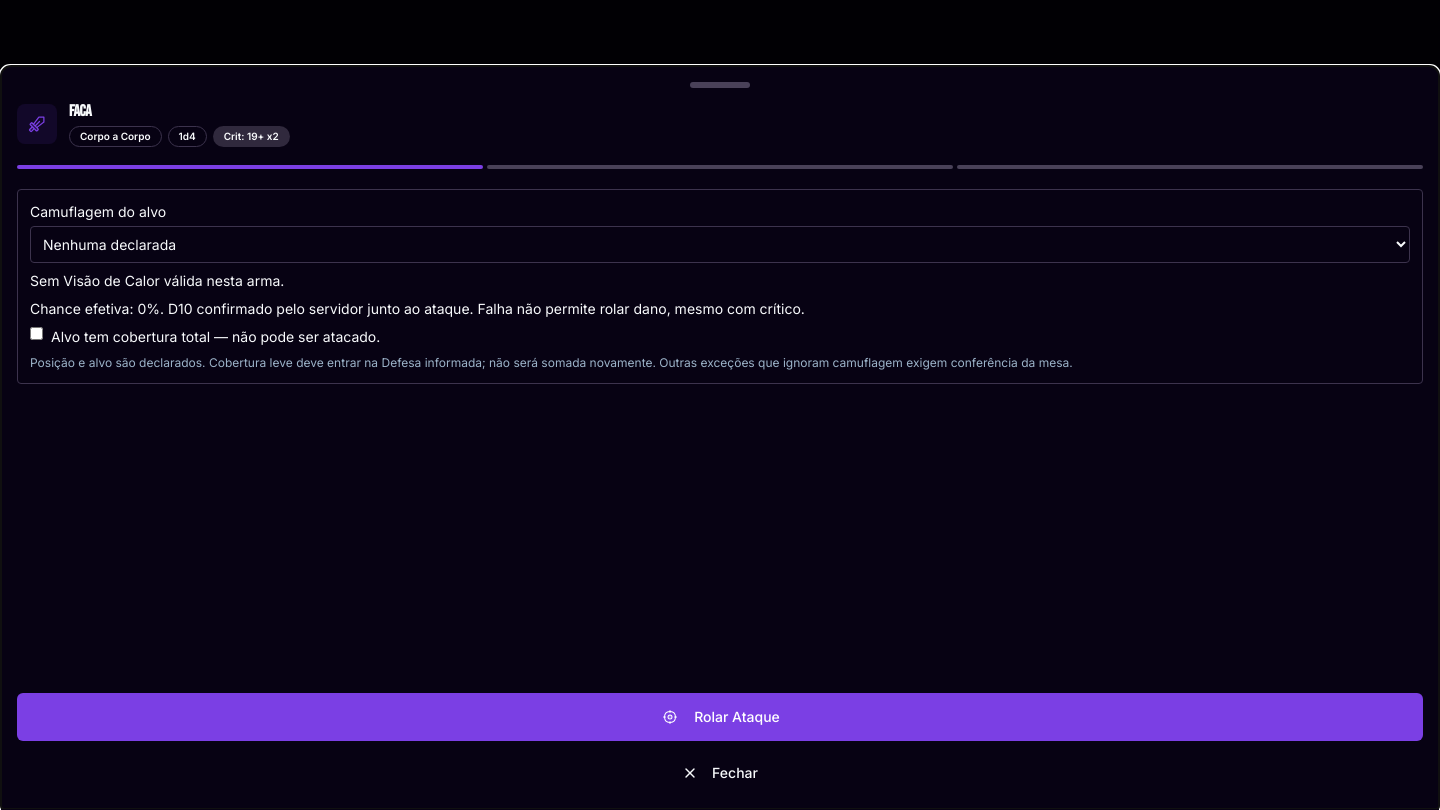
it: Crítico com bônus situacionais: mobile › preserva o tamanho de cada dado extra quando há bônus diferentes
Later steps or results of the test are not shown.
Click the button "Rolar Ataque" at (720, 717), box 17,693 -> 1423,741
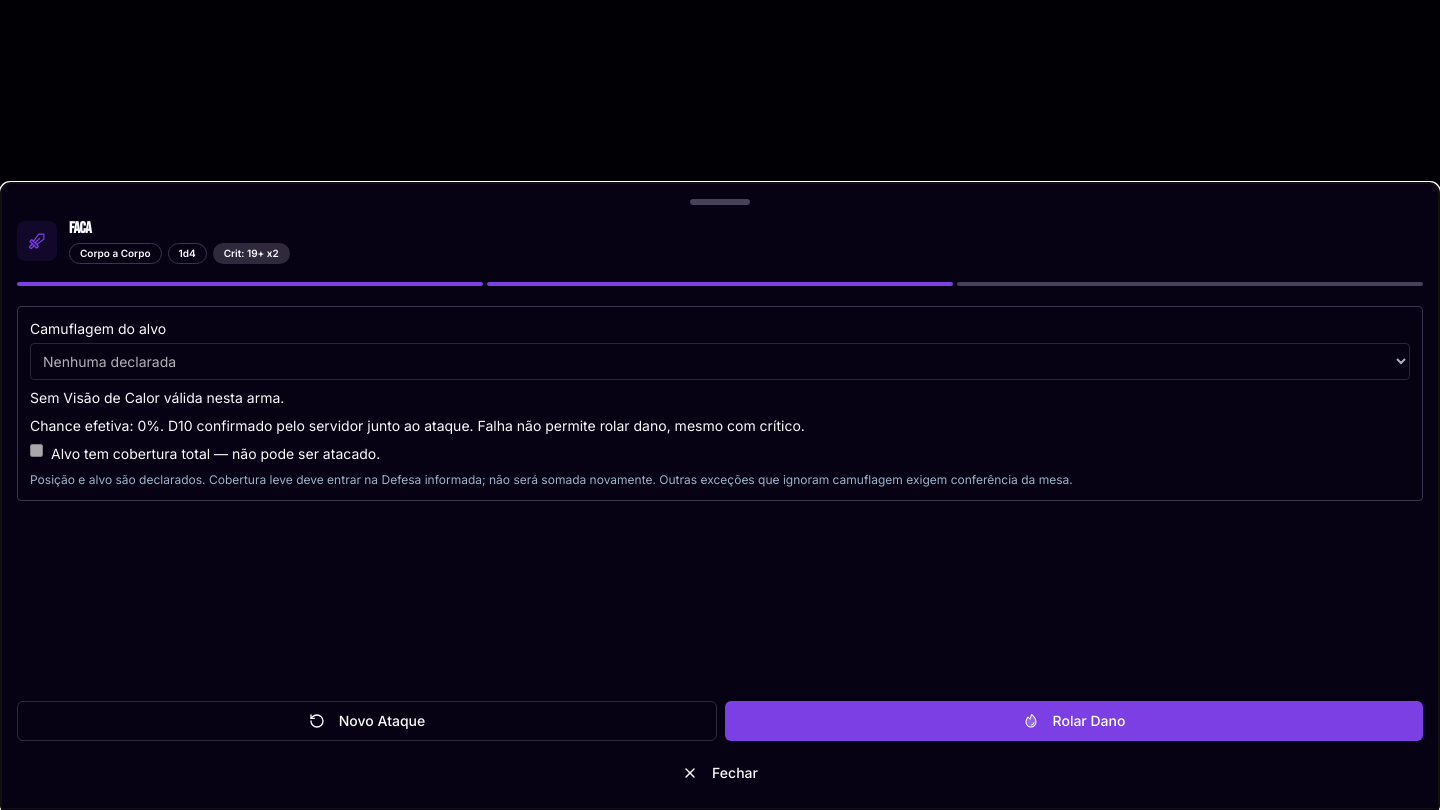
Expected: the button "Rolar Dano" is enabled, 725,701 -> 1423,741
